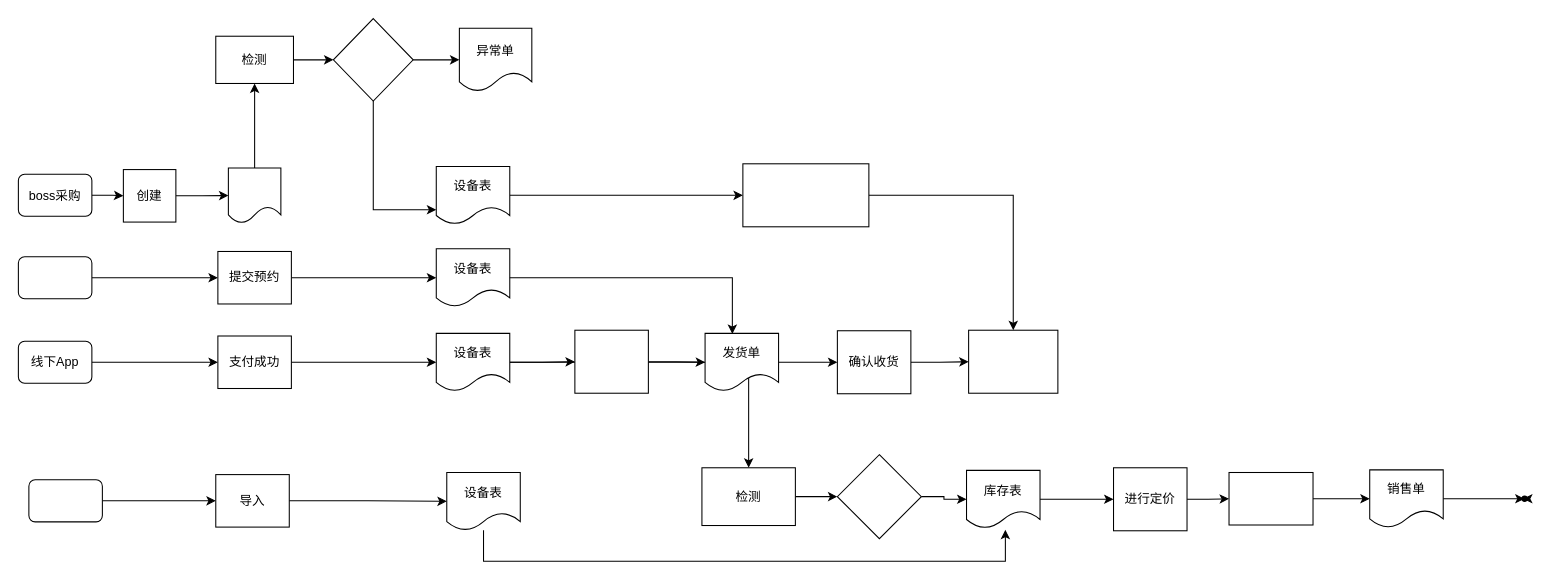
This 1554x588 diagram has some shape labels left out. The centre of each missing label's shape, as x and y in pixels:
"库存管理" goes at pixel 65 500.
"异常" goes at pixel 372 59.
"收货" goes at pixel 805 195.
"收货单" goes at pixel 1013 361.
"是否合格" goes at pixel 878 496.
"点击发货" goes at pixel 611 361.
"线上订单" goes at pixel 54 277.
"采购表" goes at pixel 254 195.
"销售出库" goes at pixel 1270 498.
